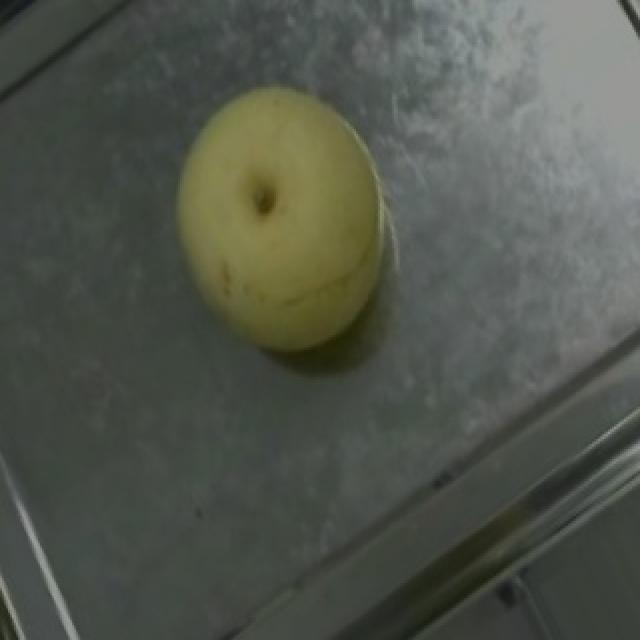Fruit: (124, 44, 438, 394)
